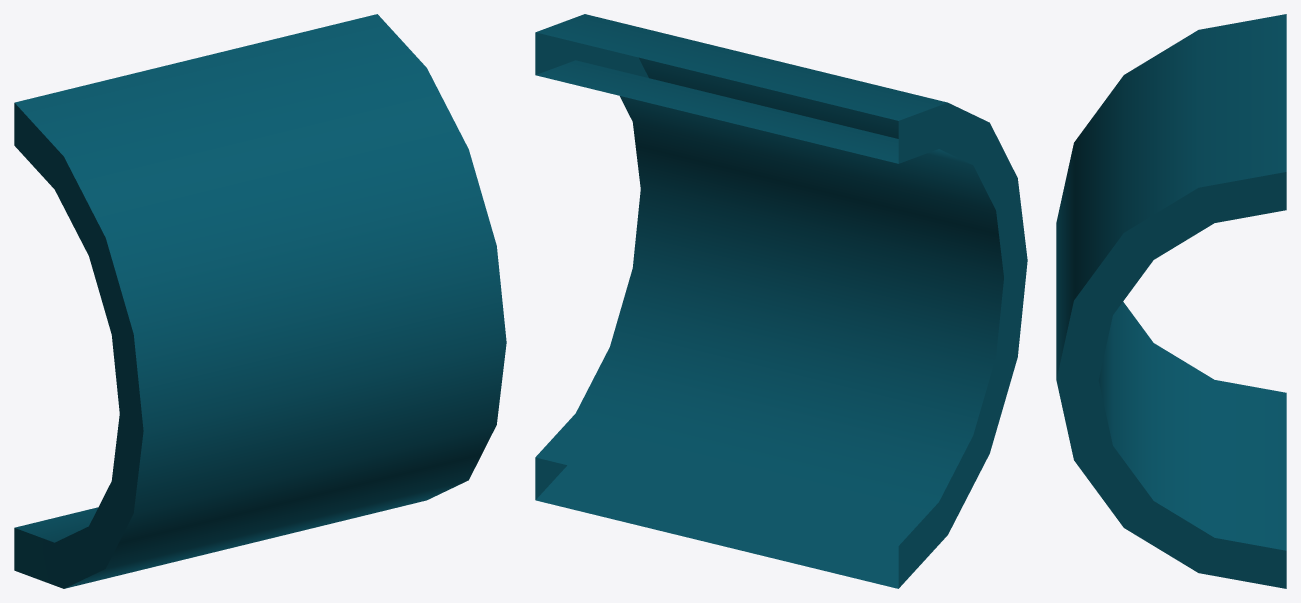
File: Modulo1_Transicion_Blockout_Cobertura.FBX
3 renders of one model, left to right at view 1: azimuth 30°, elevation 25°; view 2: azimuth 150°, elevation 25°; view 3: azimuth 270°, elevation 25°, orthographic. The views are drawn at different scales.
Parts seen in each view (by area): view 1: Tubo_Modulo1_Transicion_Covertura; view 2: Tubo_Modulo1_Transicion_Covertura; view 3: Tubo_Modulo1_Transicion_Covertura.
Part boxes in pixels (x1,y1,x2,y2): Tubo_Modulo1_Transicion_Covertura: [14, 14, 506, 588]; Tubo_Modulo1_Transicion_Covertura: [535, 14, 1027, 588]; Tubo_Modulo1_Transicion_Covertura: [1056, 14, 1286, 588].
Size of the model in its own units: 88.2 by 109 by 54.28.
